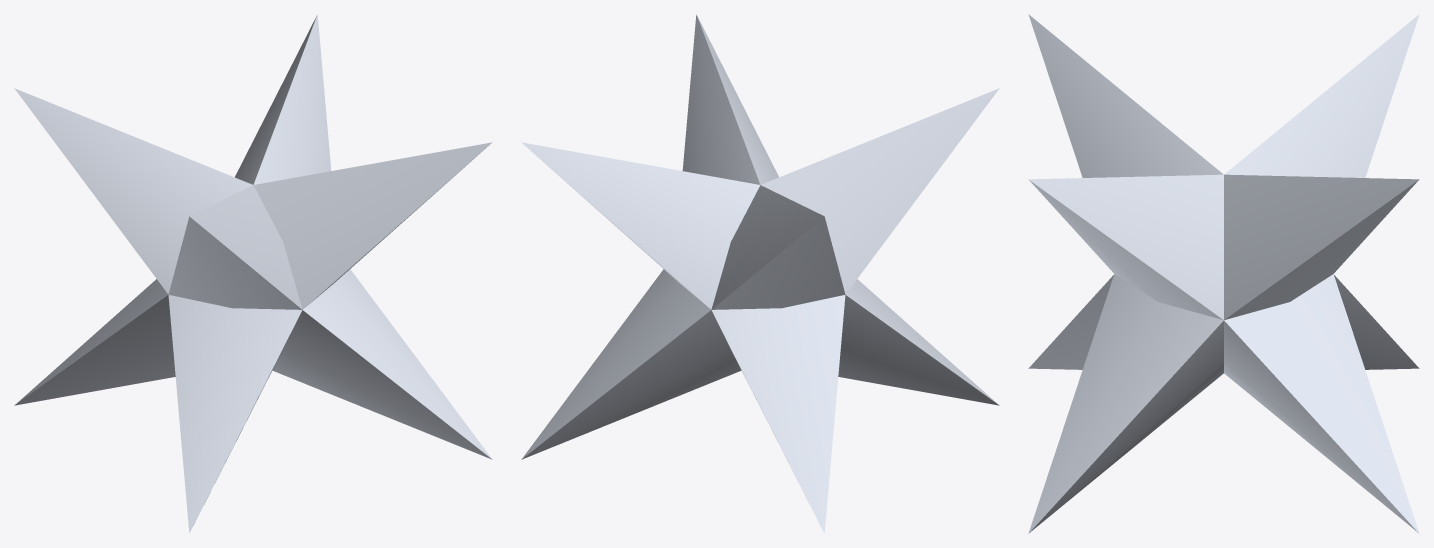
The model's file is Spike B.fbx.
The picture shows the model from 3 angles, left to right: view 1: azimuth 30°, elevation 25°; view 2: azimuth 150°, elevation 25°; view 3: azimuth 270°, elevation 25°; orthographic projection. The views are drawn at different scales.
Parts seen in each view (by area): view 1: Spike B; view 2: Spike B; view 3: Spike B.
Part boxes in pixels (<box>): Spike B: <box>14,14,492,533</box>; Spike B: <box>521,14,999,533</box>; Spike B: <box>1028,14,1419,533</box>.
Size of the model in its own units: 84.7 by 84.7 by 84.7.
